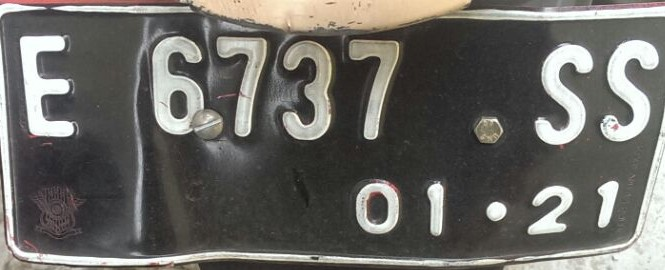plate: (1, 2, 665, 266)
